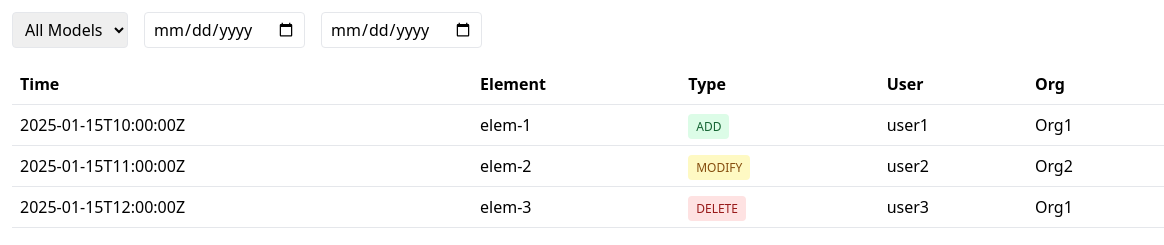
Test: AuditTimeline › filters records by model selection
Select "model-A" in the dropdown named "Filter by model" at {"x": 70, "y": 30}, box 12,12 -> 128,48
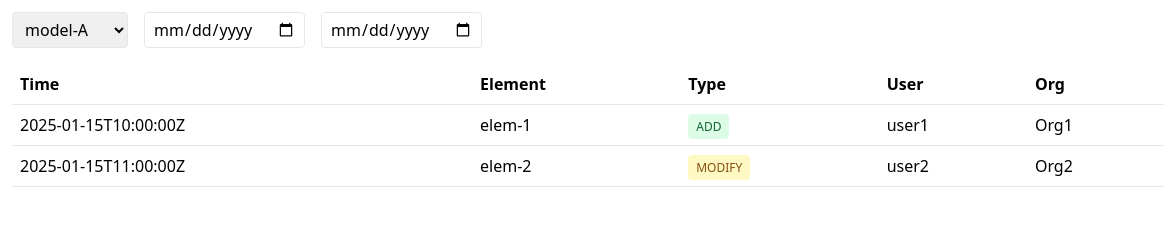
Expected: the text "elem-1" is shown, 472,104 -> 680,146
Expected: the text "elem-3" is gone
